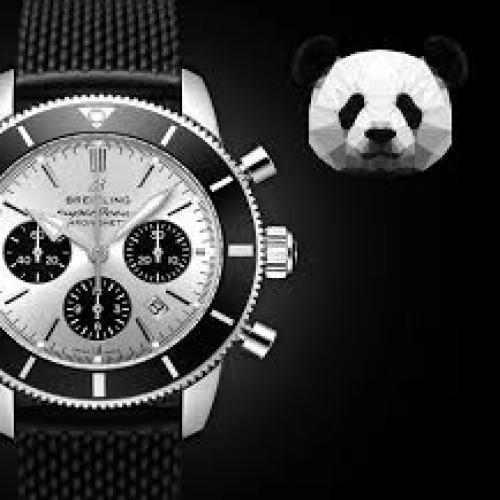lion-endangered: (289, 34, 449, 175)
